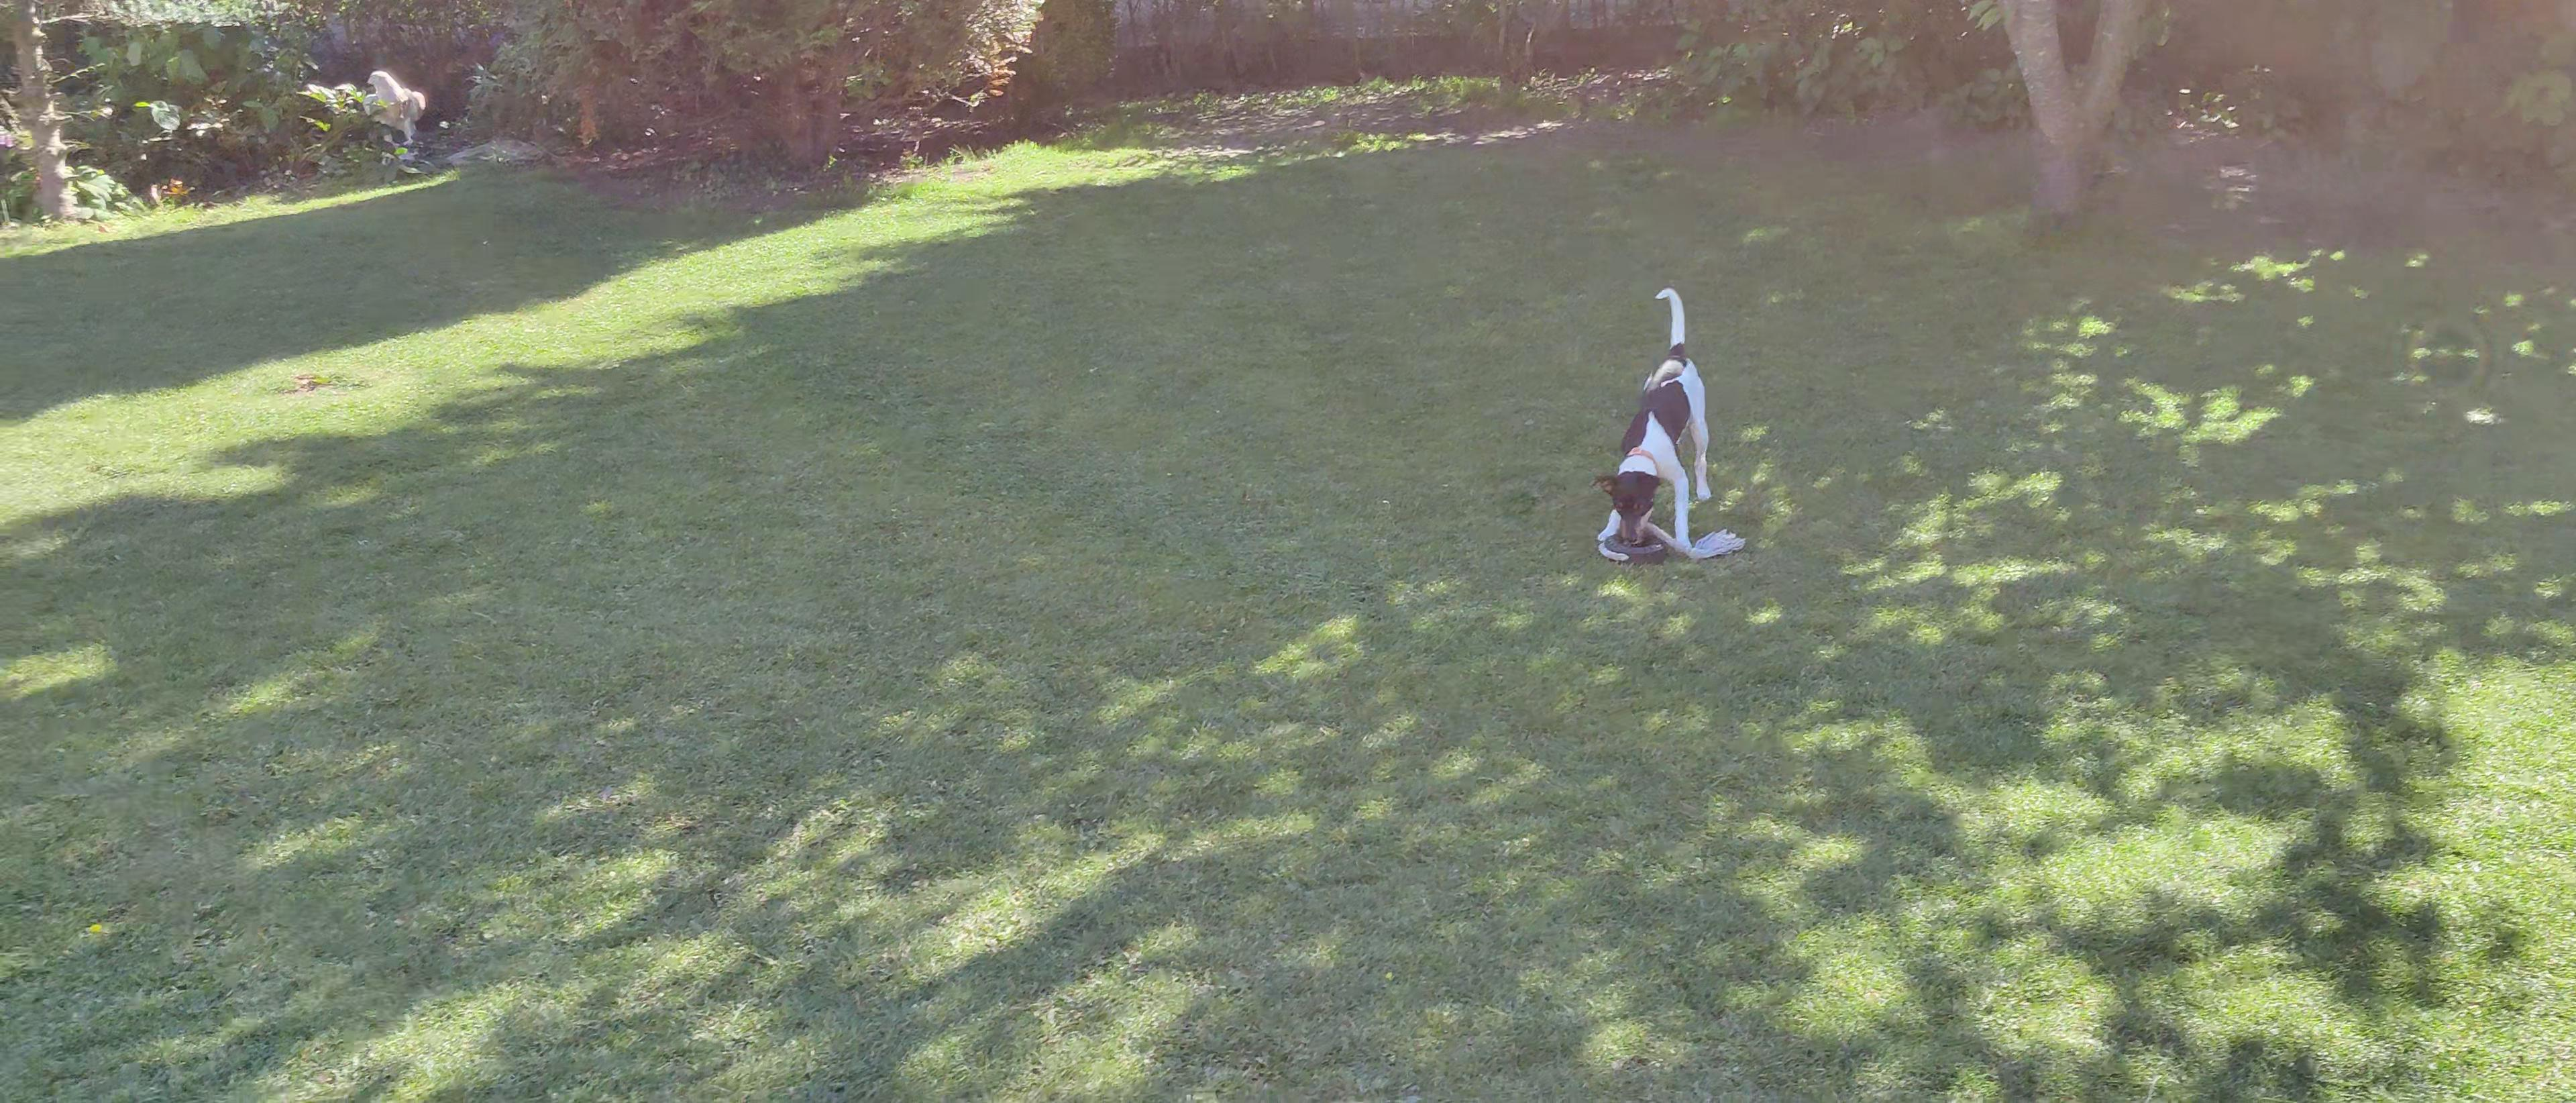Dog: (1585, 281, 1723, 557)
